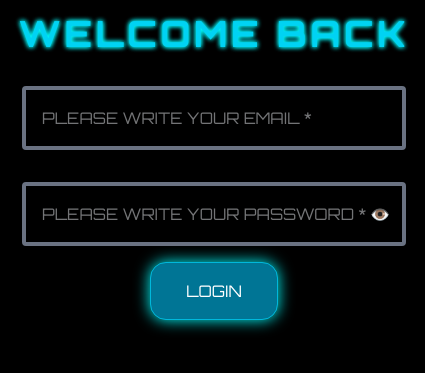
Test: Login › shows backend error and does not navigate when login fails
Type "alex@example.com" into the field with placeholder "Please write your email *" at (214, 118), box [22,86,406,150]
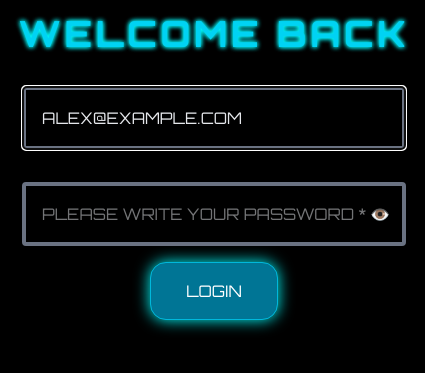
Type "WrongPass1" into the password field with placeholder "Please write your password *" at (214, 214), box [22,182,406,246]
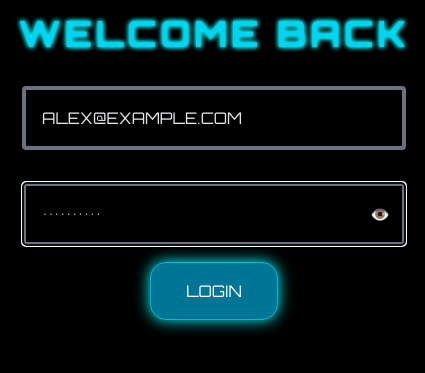
Click the button "Login" at (214, 291), box [150,262,278,320]
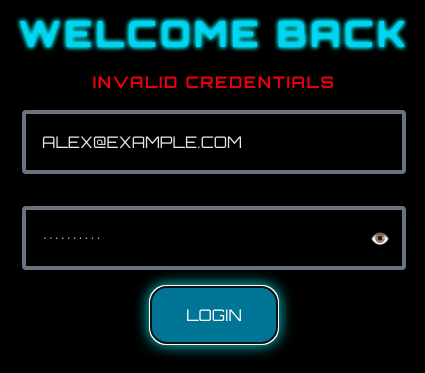
Expected: the text "Invalid credentials" is shown, [93,72,335,92]
